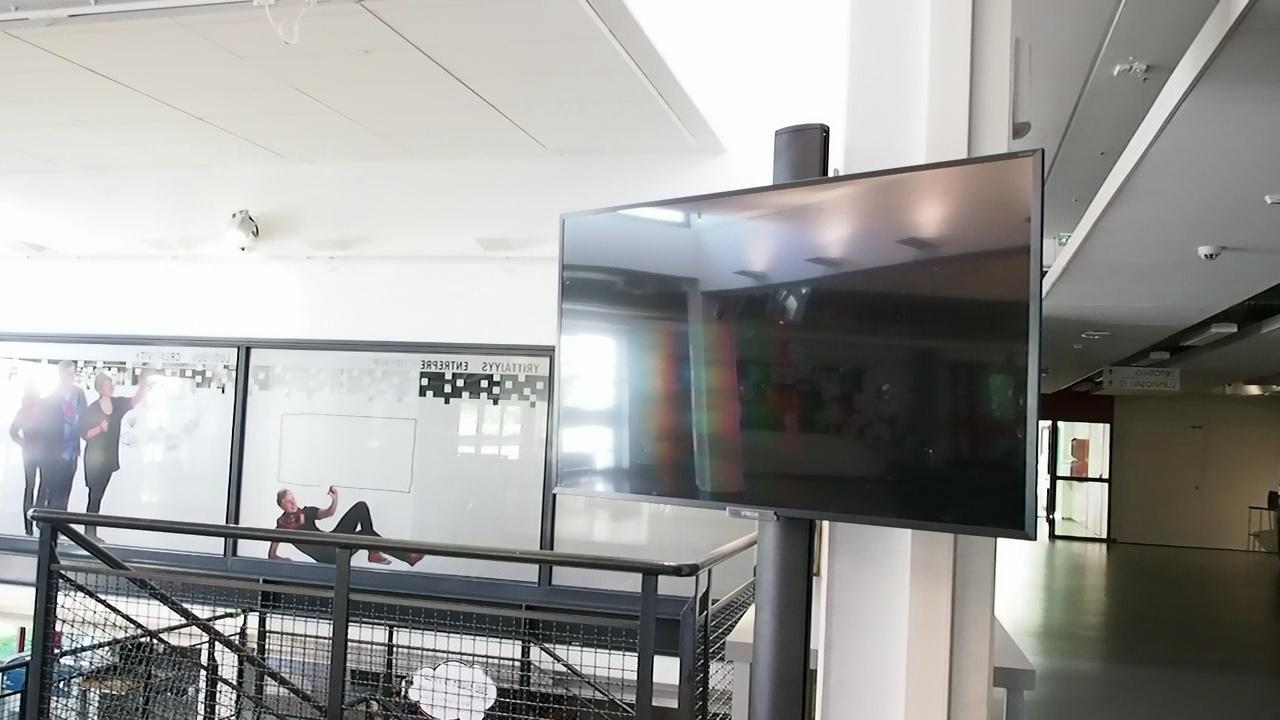screen: (548, 136, 1049, 542)
